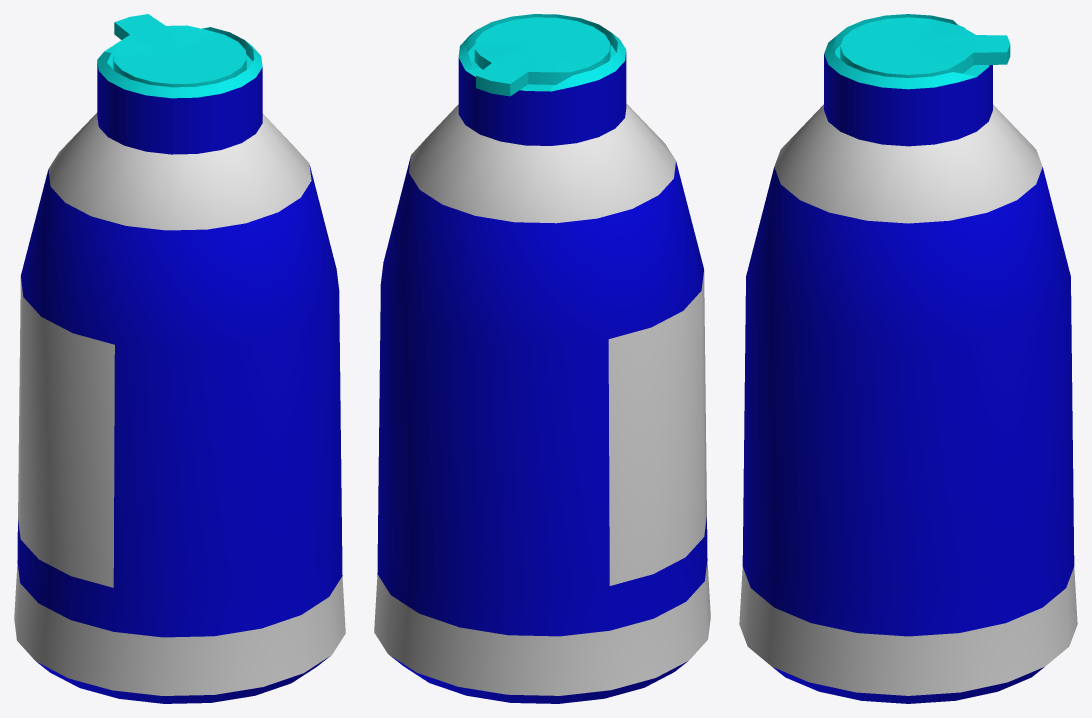
The model's file is ShavingCream.fbx.
3 renders of one model, left to right at view 1: azimuth 30°, elevation 25°; view 2: azimuth 150°, elevation 25°; view 3: azimuth 270°, elevation 25°, orthographic.
Parts seen in each view (by area): view 1: ShavingCream; view 2: ShavingCream; view 3: ShavingCream.
Boxes of the visible parts, bbox=[...] form: ShavingCream: bbox=[14, 14, 345, 703]; ShavingCream: bbox=[374, 14, 710, 703]; ShavingCream: bbox=[739, 14, 1077, 703].
Size of the model in its own units: 6.91 by 13.44 by 6.91.
